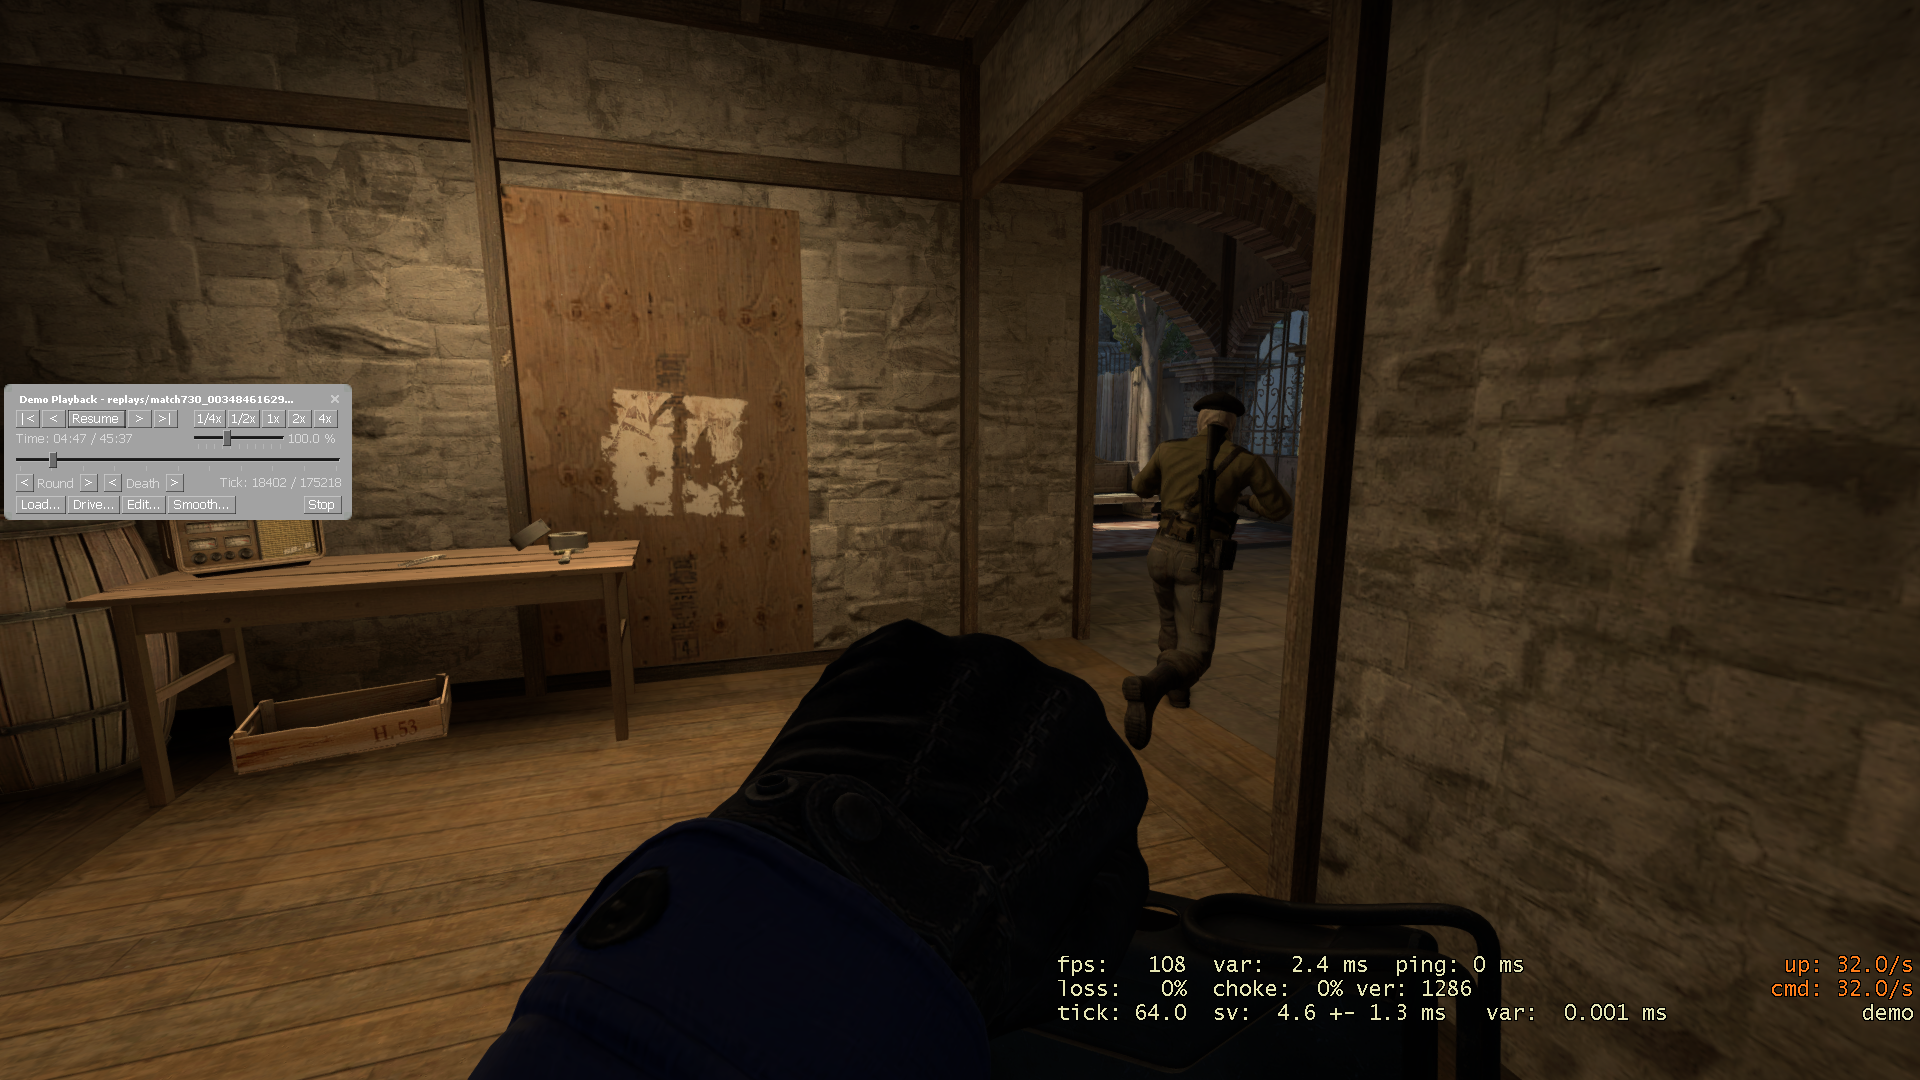t: (1121, 396, 1292, 750)
